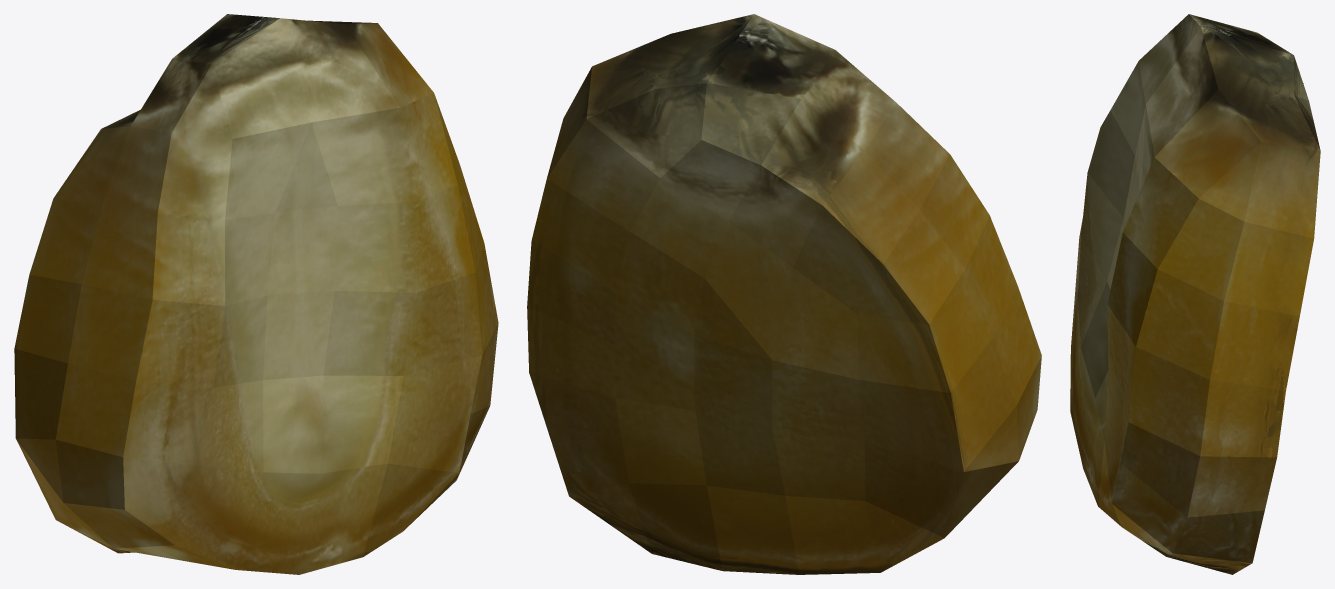
File: Corn_Kernel_retopo.gltf
3 renders of one model, left to right at view 1: azimuth 30°, elevation 25°; view 2: azimuth 150°, elevation 25°; view 3: azimuth 270°, elevation 25°, orthographic. The views are drawn at different scales.
Visible parts, largest first — view 1: node-0; view 2: node-0; view 3: node-0.
Boxes of the visible parts, x1,y1,x2,y2 form: node-0: (14,14,498,574); node-0: (527,14,1041,574); node-0: (1070,14,1320,574).
Bounding box in the file's own units: 0.0883 × 0.1006 × 0.0448.
1 material, 1 textured.
